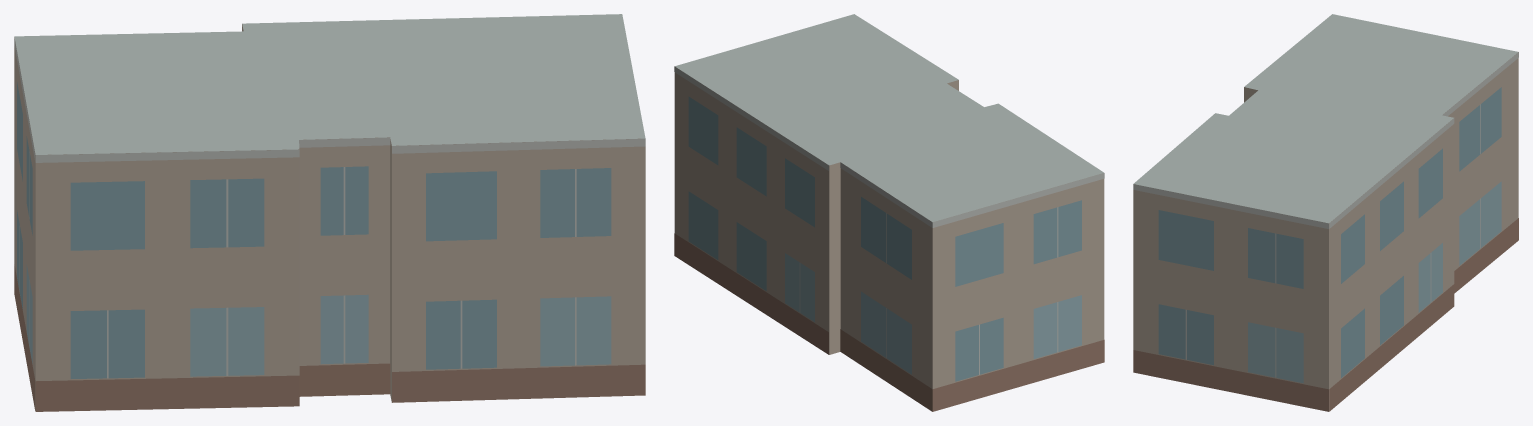
File: survey-upis-32975613.glb
3 renders of one model, left to right at view 1: azimuth 30°, elevation 25°; view 2: azimuth 150°, elevation 25°; view 3: azimuth 270°, elevation 25°, orthographic. The views are drawn at different scales.
Parts seen in each view (by area): view 1: survey-upis-32975613.tmp; view 2: survey-upis-32975613.tmp; view 3: survey-upis-32975613.tmp.
Part boxes in pixels (x1=…): survey-upis-32975613.tmp: x1=14, y1=14, x2=645, y2=411; survey-upis-32975613.tmp: x1=674, y1=14, x2=1104, y2=411; survey-upis-32975613.tmp: x1=1133, y1=14, x2=1518, y2=411.
Bounding box in the file's own units: 18.83 × 7.9 × 14.65.
